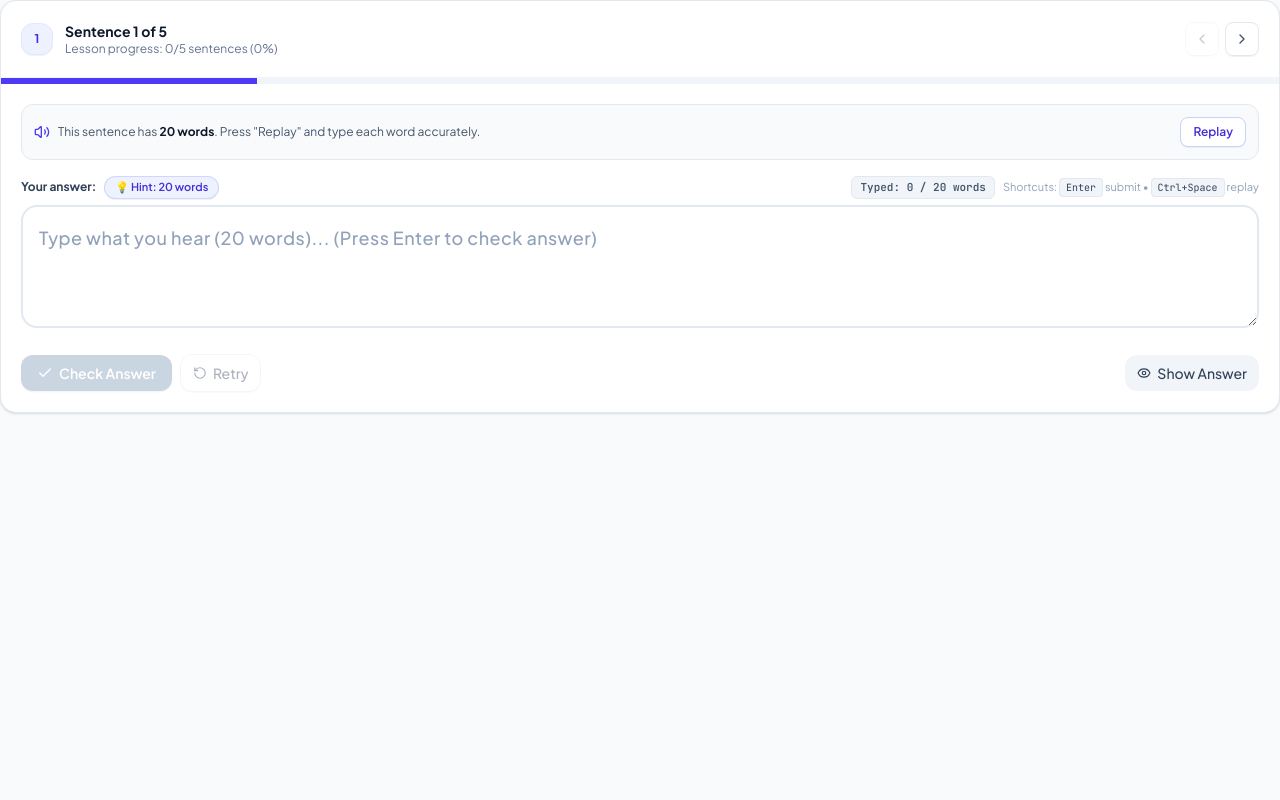
Test: ListenFlow Improvement Requirements › 3. Results summary and retry workflow › displays results summary card, and retry workflow clears input, replays audio, and focuses textarea
Replace the text in the text box with placeholder "Type what you hear" with "I am honored to be" at (640, 266), box [21,204,1259,328]
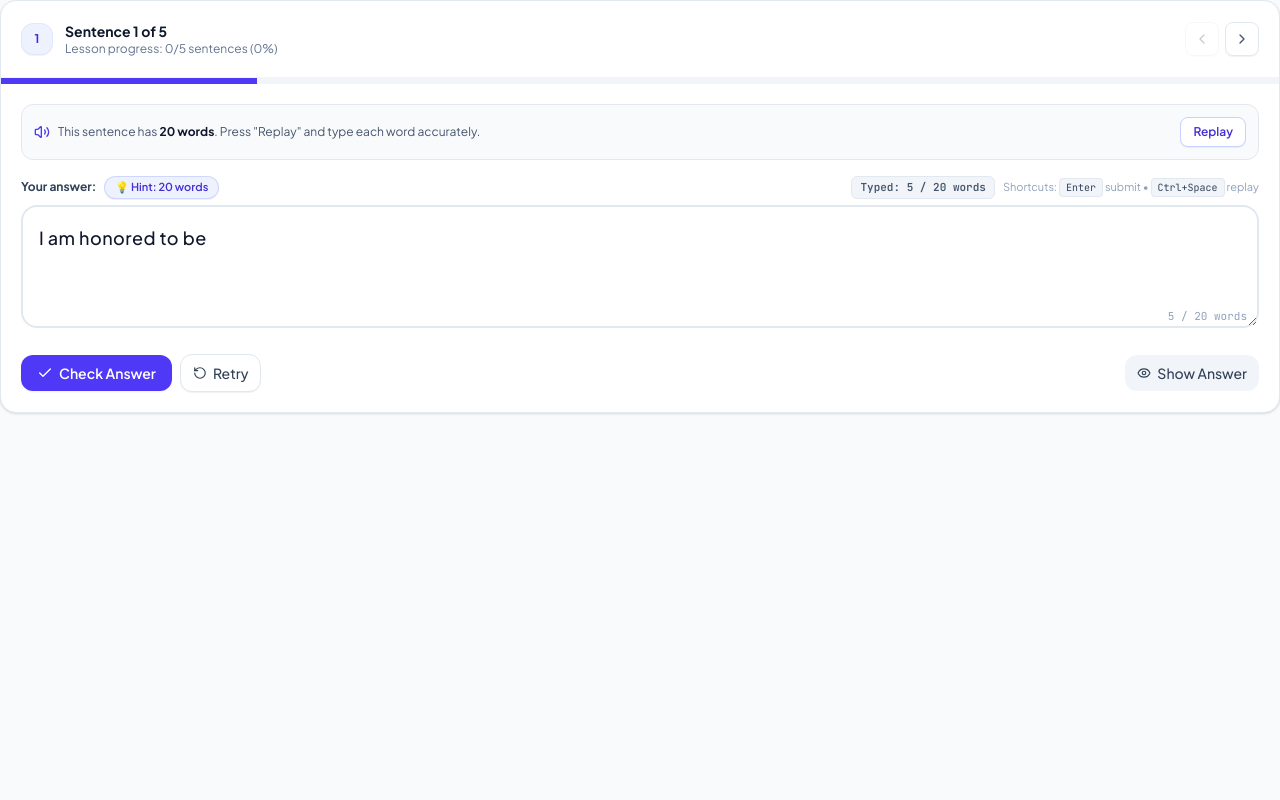
Click the button "Check Answer" at (96, 373), box [21,355,172,391]
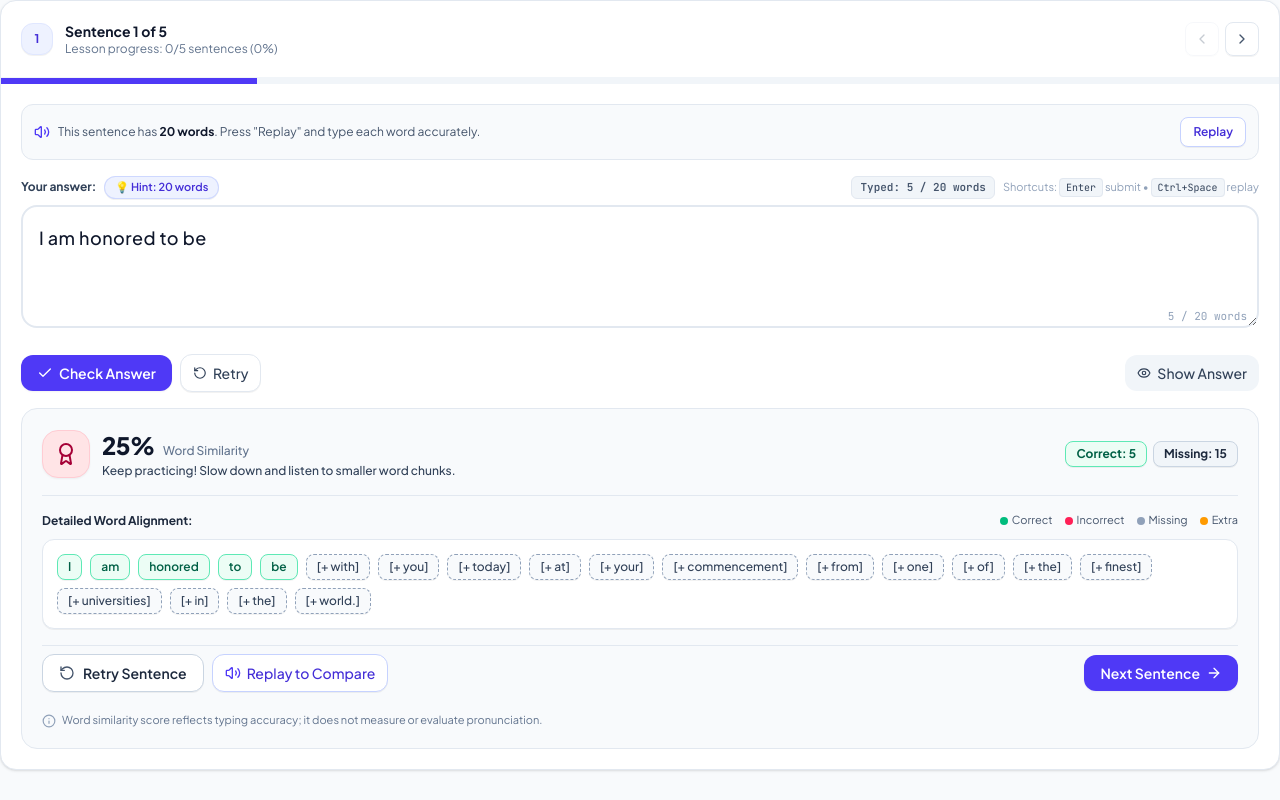
Now the text "Word Similarity" is shown, box [163,443,249,459]
Now the text "Detailed Word Alignment:" is shown, box [42,512,193,528]
Click the button "Retry" at (221, 373), box [180,354,261,392]
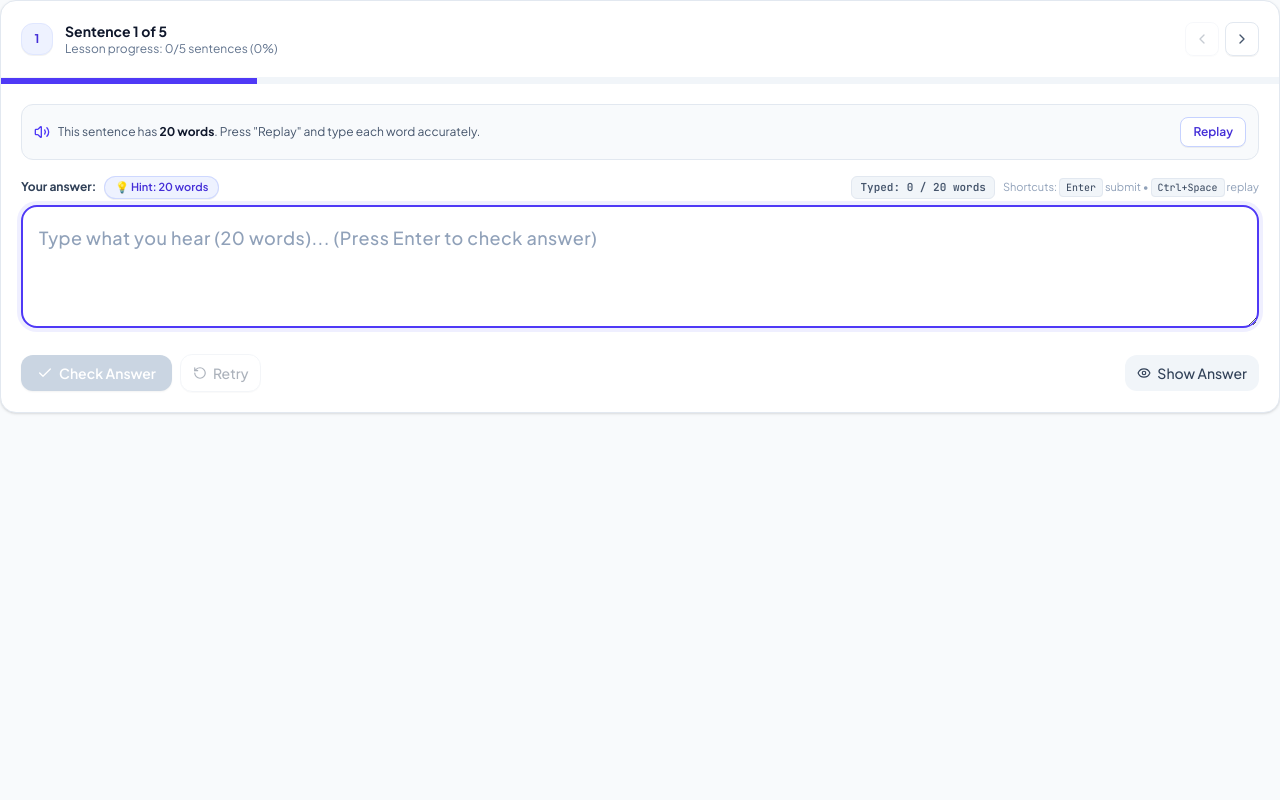
Now the text box with placeholder "Type what you hear" is empty, box [21,204,1259,328]
Now the text "Detailed Word Alignment" is gone
